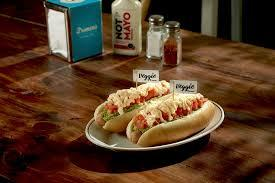Completos: (125, 92, 214, 147), (100, 72, 173, 137)
